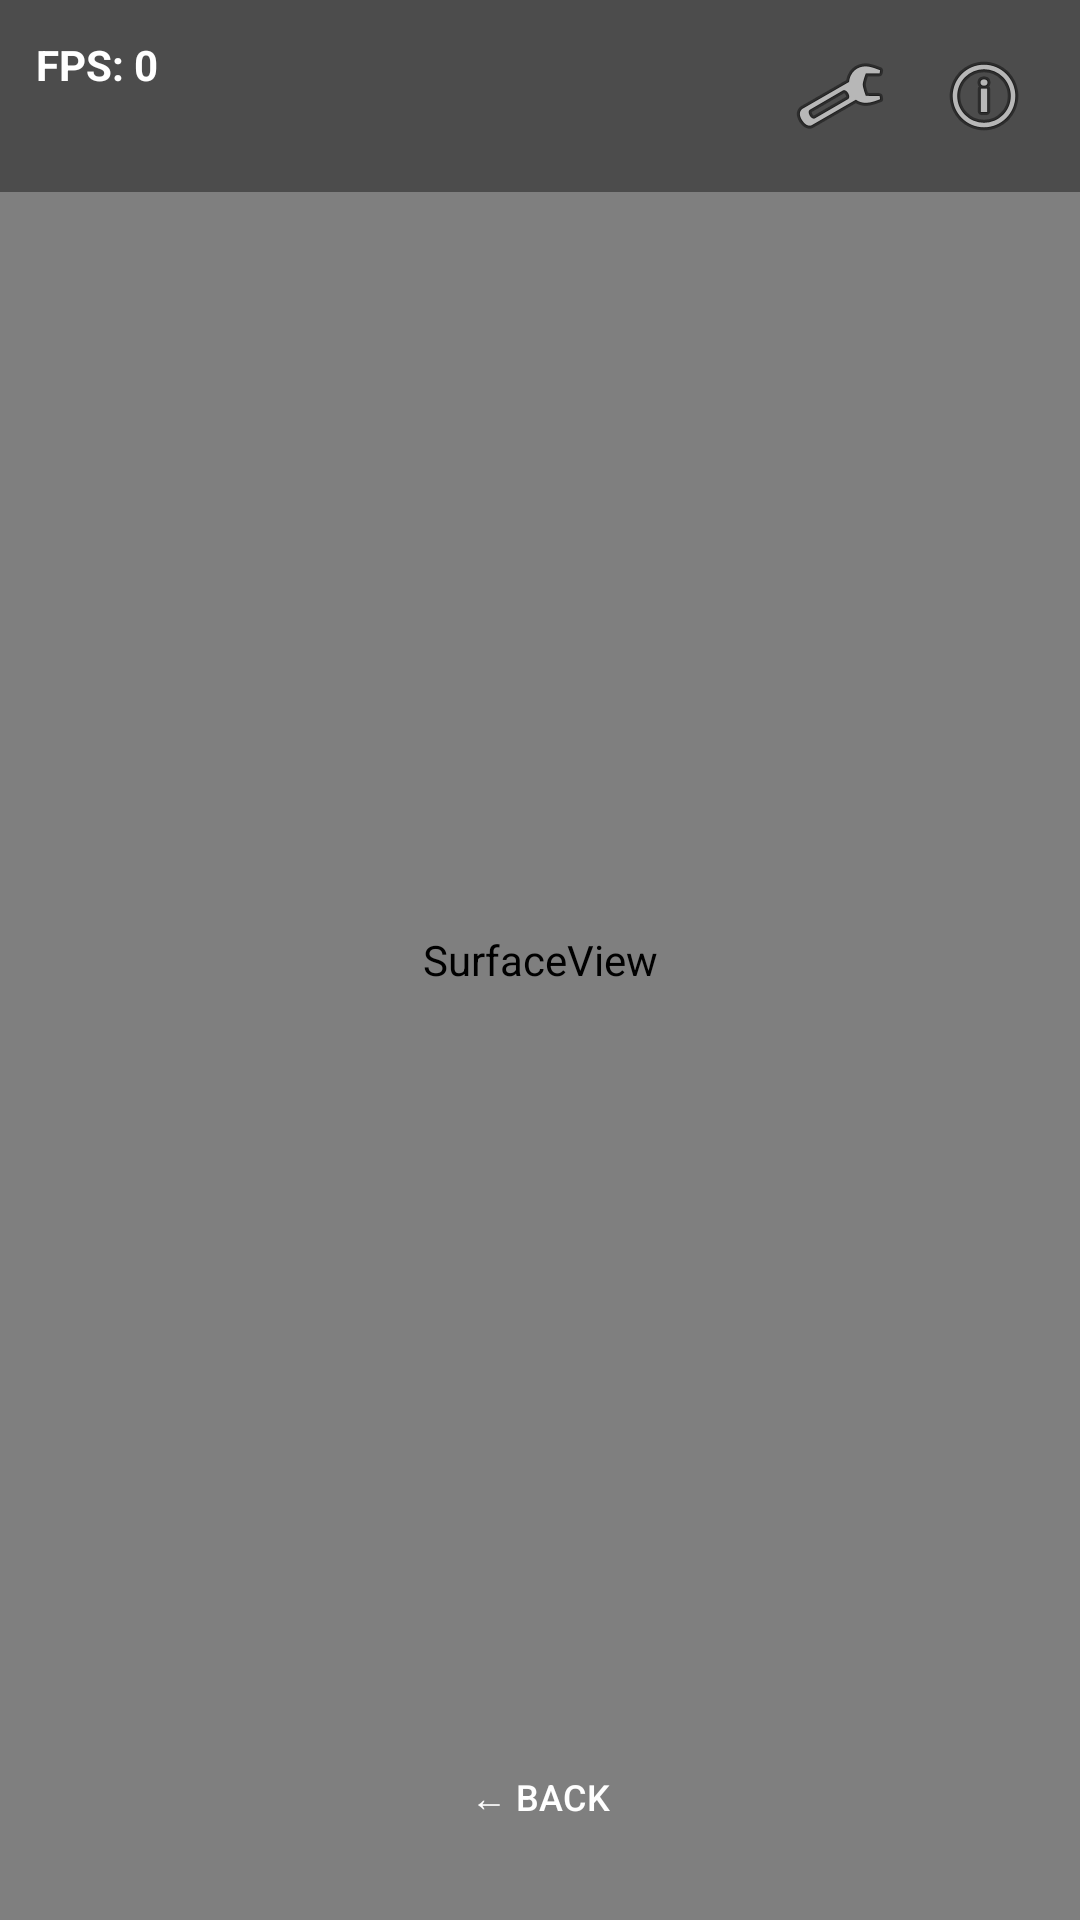

Icons on this 1080 × 1920 Android screen, each with the point to tap as (x=x, y=y):
Settings: (x=840, y=96)
